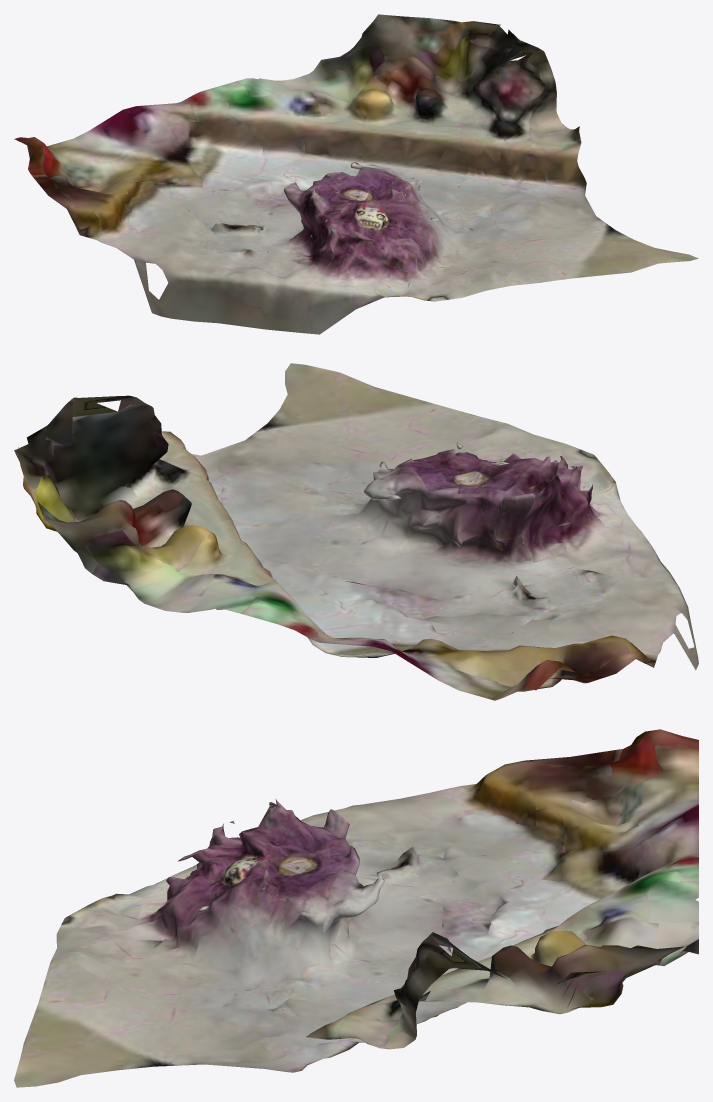
The model's file is hall.glb.
The picture shows the model from 3 angles, top to bottom: view 1: azimuth 30°, elevation 25°; view 2: azimuth 150°, elevation 25°; view 3: azimuth 270°, elevation 25°; orthographic projection. The views are drawn at different scales.
Bounding box in the file's own units: 3.68 × 1.02 × 3.54.
1 material, 1 textured.
